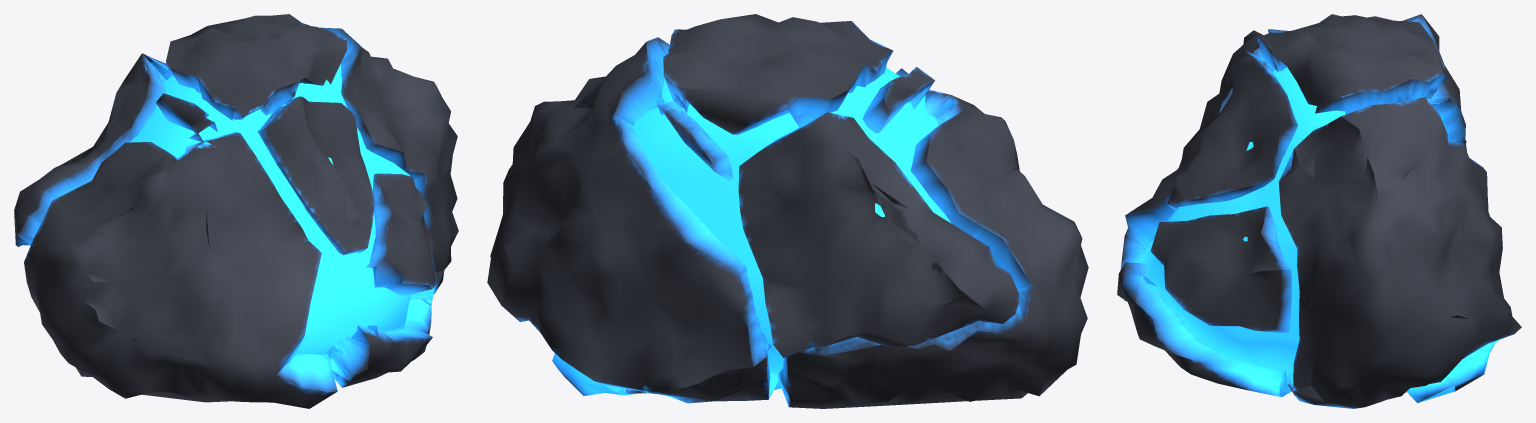
The model's file is mineral_neon_azul.fbx.
3 renders of one model, left to right at view 1: azimuth 30°, elevation 25°; view 2: azimuth 150°, elevation 25°; view 3: azimuth 270°, elevation 25°, orthographic. The views are drawn at different scales.
Visible parts, largest first — view 1: mineral_neon_azul, mineral_neon_azul_neon; view 2: mineral_neon_azul, mineral_neon_azul_neon; view 3: mineral_neon_azul, mineral_neon_azul_neon.
Part boxes in pixels (x1=…): mineral_neon_azul: x1=14, y1=14, x2=458, y2=408; mineral_neon_azul_neon: x1=129, y1=64, x2=410, y2=358; mineral_neon_azul: x1=487, y1=14, x2=1088, y2=408; mineral_neon_azul_neon: x1=630, y1=67, x2=951, y2=373; mineral_neon_azul: x1=1117, y1=14, x2=1521, y2=408; mineral_neon_azul_neon: x1=1144, y1=56, x2=1429, y2=372.
Bounding box in the file's own units: 2.72 × 1.65 × 2.05.
Materials: 2 (2 with a texture image).
